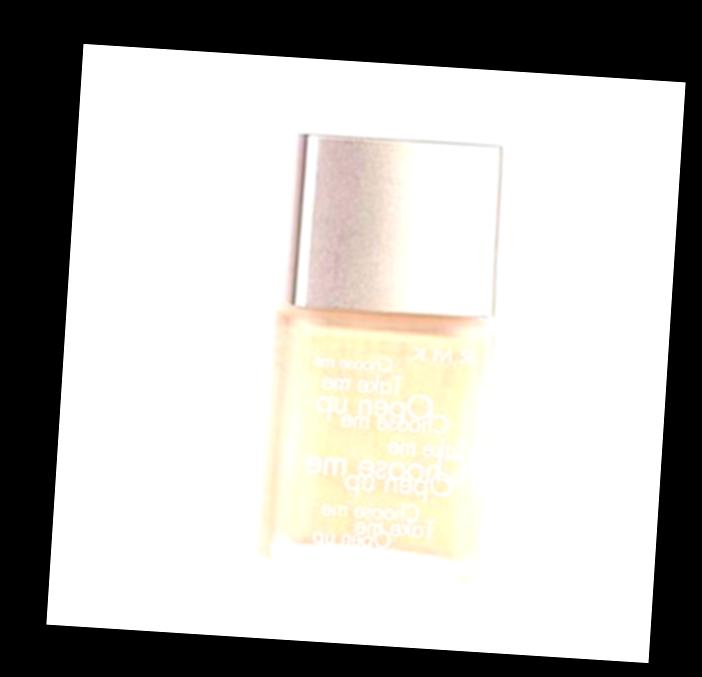cosmetic: (247, 128, 511, 587)
